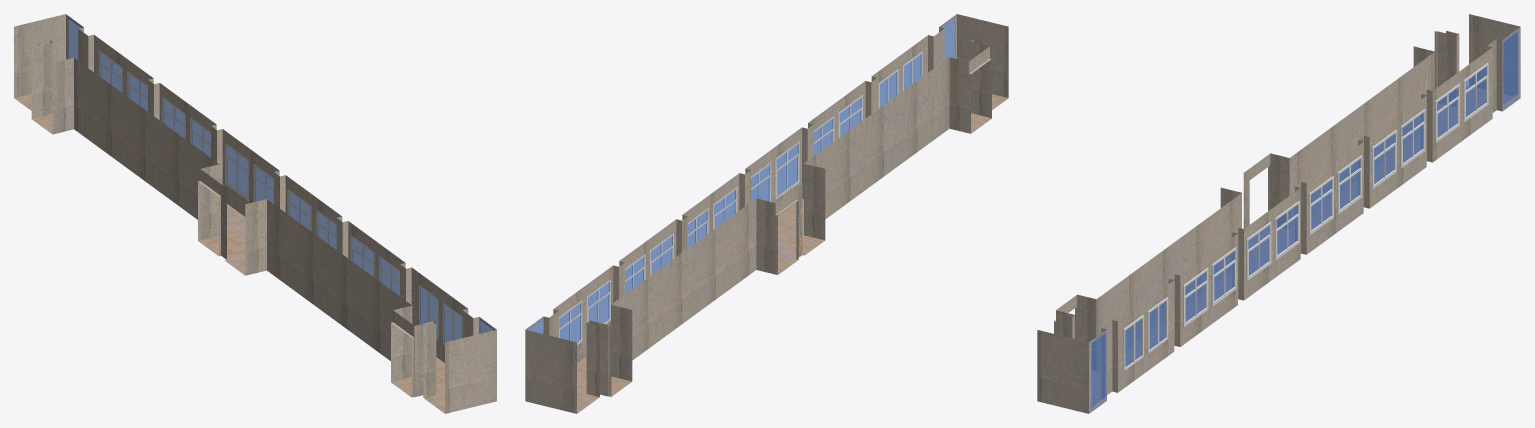
The model's file is COM031.obj.
3 renders of one model, left to right at view 1: azimuth 30°, elevation 25°; view 2: azimuth 150°, elevation 25°; view 3: azimuth 330°, elevation 25°, orthographic.
Parts seen in each view (by area): view 1: Mesh91 COM031 Model, Mesh62 ventana1_3_8 COM031 Model, Mesh86 v2_2 COM031 Model, Mesh30 ventana1_3_4 COM031 Model, Mesh54 ventana1_3_7 COM031 Model, Mesh14 ventana1_3_2 COM031 Model, Mesh1 v2_1 COM031 Model, Mesh22 ventana1_3_3 COM031 Model, Mesh78 ventana1_3_10 COM031 Model, Mesh6 ventana1_3_1 COM031 Model, Mesh38 ventana1_3_5 COM031 Model, Mesh46 ventana1_3_6 COM031 Model (+1 smaller); view 2: Mesh91 COM031 Model, Mesh70 ventana1_3_9 COM031 Model, Mesh46 ventana1_3_6 COM031 Model, Mesh22 ventana1_3_3 COM031 Model, Mesh54 ventana1_3_7 COM031 Model, Mesh38 ventana1_3_5 COM031 Model, Mesh14 ventana1_3_2 COM031 Model, Mesh6 ventana1_3_1 COM031 Model, Mesh30 ventana1_3_4 COM031 Model, Mesh78 ventana1_3_10 COM031 Model, Mesh86 v2_2 COM031 Model, Mesh62 ventana1_3_8 COM031 Model (+1 smaller); view 3: Mesh91 COM031 Model, Mesh22 ventana1_3_3 COM031 Model, Mesh38 ventana1_3_5 COM031 Model, Mesh62 ventana1_3_8 COM031 Model, Mesh70 ventana1_3_9 COM031 Model, Mesh14 ventana1_3_2 COM031 Model, Mesh54 ventana1_3_7 COM031 Model, Mesh78 ventana1_3_10 COM031 Model, Mesh30 ventana1_3_4 COM031 Model, Mesh46 ventana1_3_6 COM031 Model, Mesh6 ventana1_3_1 COM031 Model, Mesh86 v2_2 COM031 Model (+1 smaller).
Part boxes in pixels (x1,y1,x2,y2): Mesh91 COM031 Model: [14, 14, 496, 413]; Mesh62 ventana1_3_8 COM031 Model: [225, 143, 248, 201]; Mesh86 v2_2 COM031 Model: [419, 285, 438, 340]; Mesh30 ventana1_3_4 COM031 Model: [350, 234, 374, 277]; Mesh54 ventana1_3_7 COM031 Model: [287, 188, 311, 231]; Mesh14 ventana1_3_2 COM031 Model: [253, 163, 273, 203]; Mesh1 v2_1 COM031 Model: [443, 302, 462, 344]; Mesh22 ventana1_3_3 COM031 Model: [99, 50, 122, 93]; Mesh78 ventana1_3_10 COM031 Model: [162, 96, 185, 139]; Mesh6 ventana1_3_1 COM031 Model: [190, 117, 210, 157]; Mesh38 ventana1_3_5 COM031 Model: [379, 255, 399, 295]; Mesh46 ventana1_3_6 COM031 Model: [127, 71, 147, 111]; Mesh91 COM031 Model: [525, 14, 1008, 413]; Mesh70 ventana1_3_9 COM031 Model: [775, 141, 799, 199]; Mesh46 ventana1_3_6 COM031 Model: [587, 279, 610, 324]; Mesh22 ventana1_3_3 COM031 Model: [559, 300, 582, 345]; Mesh54 ventana1_3_7 COM031 Model: [751, 162, 771, 201]; Mesh38 ventana1_3_5 COM031 Model: [838, 95, 862, 137]; Mesh14 ventana1_3_2 COM031 Model: [713, 187, 737, 229]; Mesh6 ventana1_3_1 COM031 Model: [650, 233, 673, 275]; Mesh30 ventana1_3_4 COM031 Model: [813, 116, 834, 155]; Mesh78 ventana1_3_10 COM031 Model: [625, 254, 645, 293]; Mesh86 v2_2 COM031 Model: [878, 69, 898, 108]; Mesh62 ventana1_3_8 COM031 Model: [688, 208, 708, 247]; Mesh91 COM031 Model: [1037, 14, 1520, 413]; Mesh22 ventana1_3_3 COM031 Model: [1463, 63, 1488, 122]; Mesh38 ventana1_3_5 COM031 Model: [1183, 268, 1208, 327]; Mesh62 ventana1_3_8 COM031 Model: [1337, 155, 1362, 214]; Mesh70 ventana1_3_9 COM031 Model: [1246, 222, 1271, 281]; Mesh14 ventana1_3_2 COM031 Model: [1308, 176, 1333, 235]; Mesh54 ventana1_3_7 COM031 Model: [1274, 201, 1299, 260]; Mesh78 ventana1_3_10 COM031 Model: [1400, 109, 1425, 168]; Mesh30 ventana1_3_4 COM031 Model: [1211, 247, 1236, 306]; Mesh46 ventana1_3_6 COM031 Model: [1435, 83, 1459, 143]; Mesh6 ventana1_3_1 COM031 Model: [1372, 130, 1396, 189]; Mesh86 v2_2 COM031 Model: [1147, 297, 1168, 353].
Bounding box in the file's own units: 3.23 × 3.6 × 39.35.
Materials: 7 (2 with a texture image).
